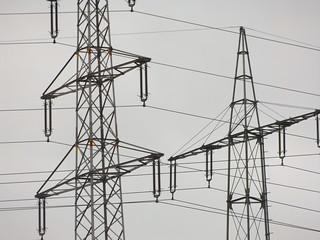power_tower: (166, 26, 320, 240), (31, 0, 163, 240)
